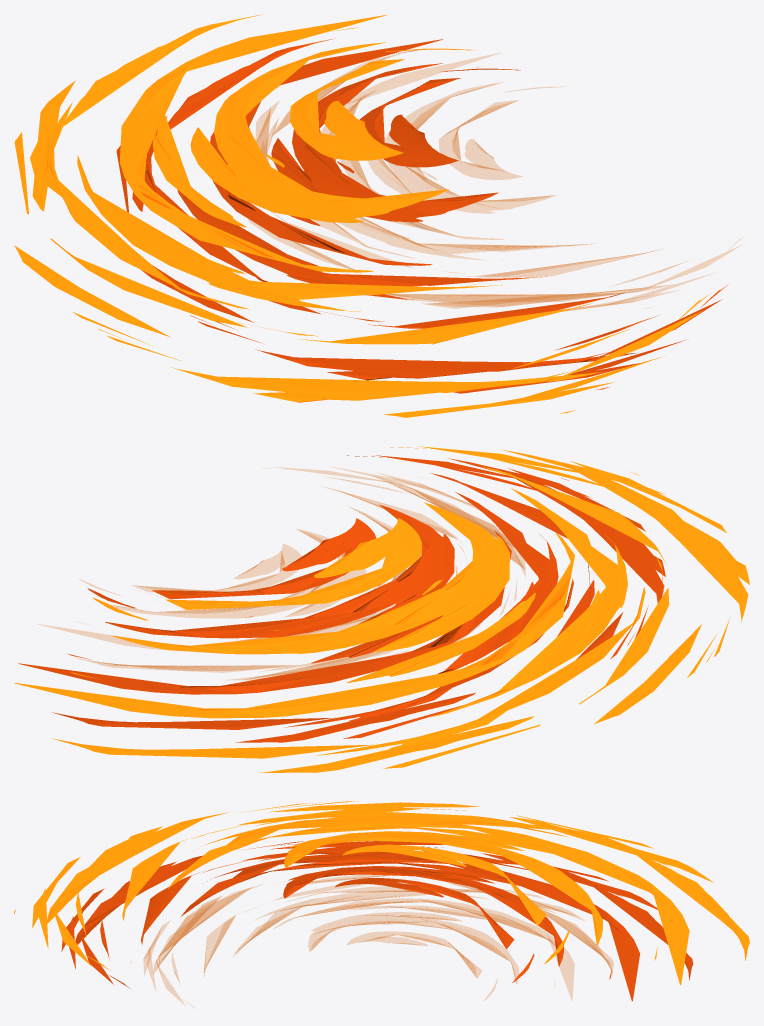
File: windslash.glb
The picture shows the model from 3 angles, top to bottom: view 1: azimuth 30°, elevation 25°; view 2: azimuth 150°, elevation 25°; view 3: azimuth 270°, elevation 25°; orthographic projection. The views are drawn at different scales.
Parts seen in each view (by area): view 1: Circle.001, Circle.002, Circle; view 2: Circle.001, Circle.002, Circle; view 3: Circle.001, Circle.002, Circle.
Part boxes in pixels (<box>): Circle.001: <box>14,14,710,417</box>; Circle.002: <box>116,38,729,393</box>; Circle: <box>248,53,740,311</box>; Circle.001: <box>14,446,749,772</box>; Circle.002: <box>18,455,665,742</box>; Circle: <box>38,467,525,680</box>; Circle.001: <box>14,801,749,984</box>; Circle.002: <box>61,841,693,1001</box>; Circle: <box>143,875,613,1006</box>.
Size of the model in its own units: 3.71 by 0.6212 by 5.23.
